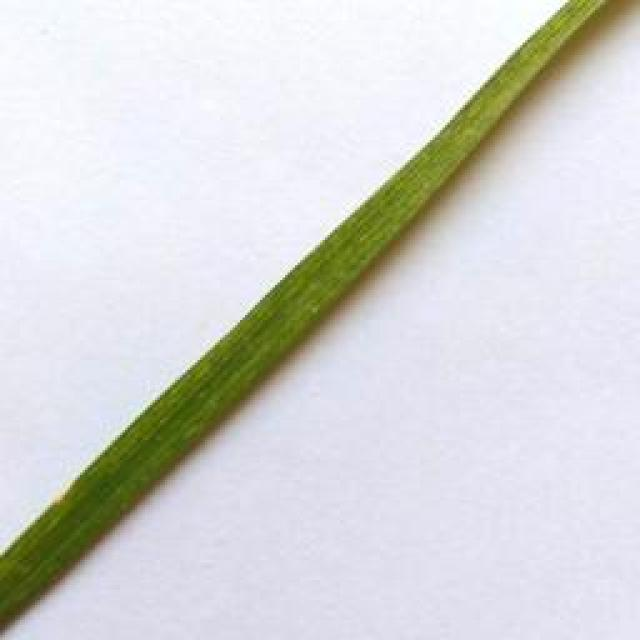Healthy-Plant: (0, 0, 619, 609)
